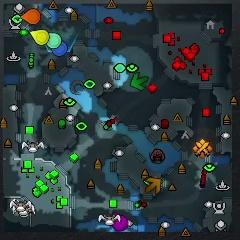Other: (193, 138, 212, 159)
p1: (52, 42, 67, 56)
p2: (46, 32, 61, 48)
p3: (113, 212, 128, 232)
p4: (30, 30, 49, 46)
p5: (21, 9, 39, 24)
x4: (131, 72, 148, 90)
x5: (145, 177, 161, 194)
